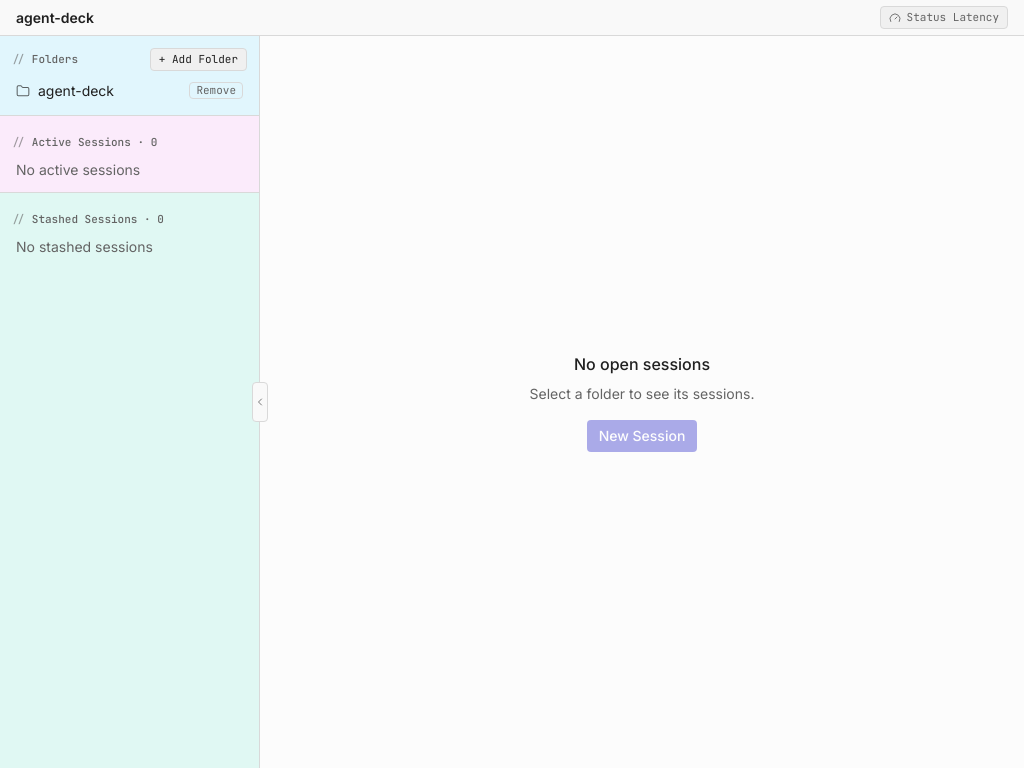
New Session (5.4) › closes the pane through the client after Close and removes it (SRS-FR-029)
Click the button "agent-deck": (99, 90) [16,80,181,100]
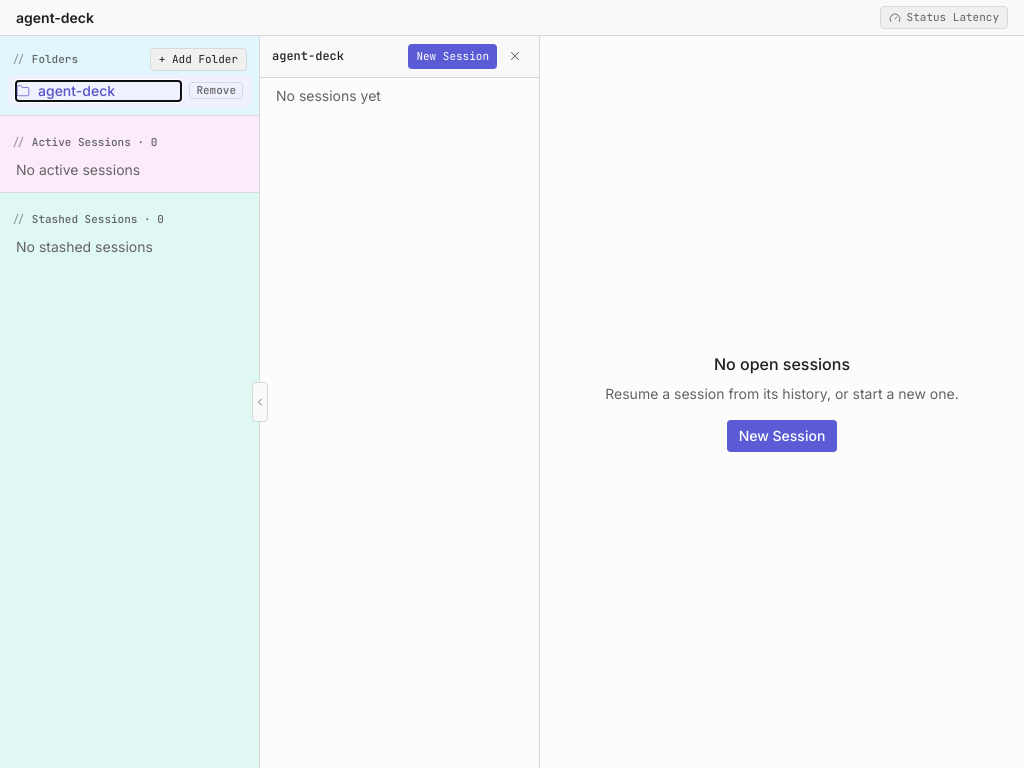
Click the 1st button "New Session": (453, 56) [408,44,497,68]
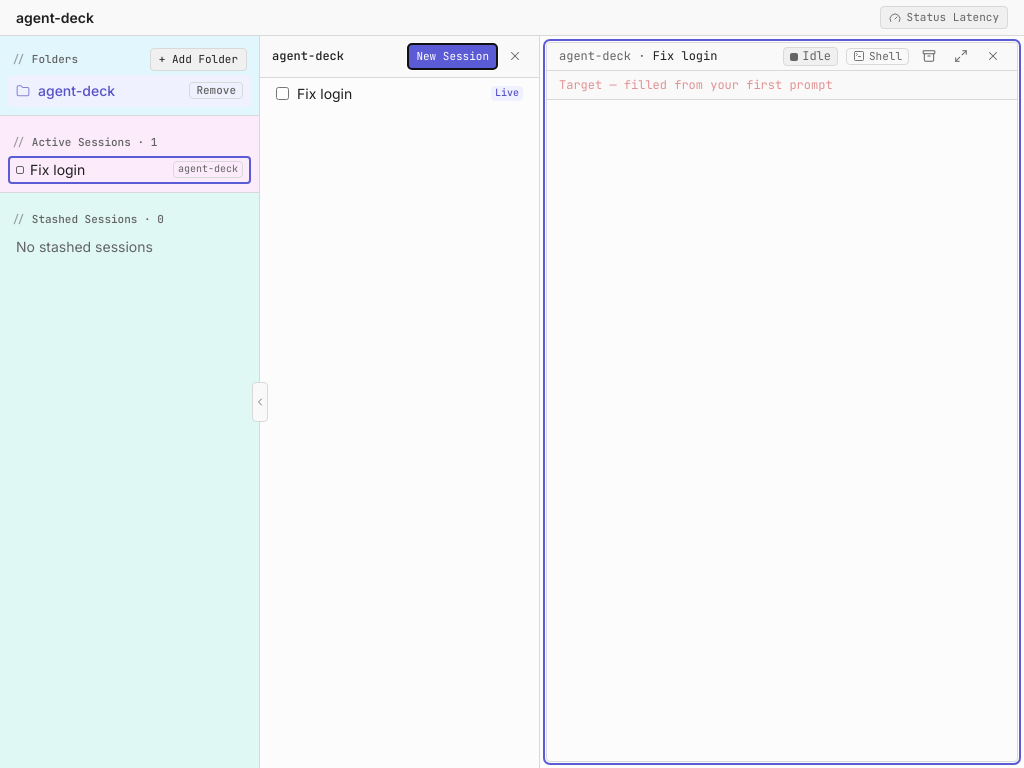
expect the element with test id "pane-grid" is shown: met, box [544,40,1020,764]
Click the button named "Close pane": (993, 56) [981,44,1005,68]
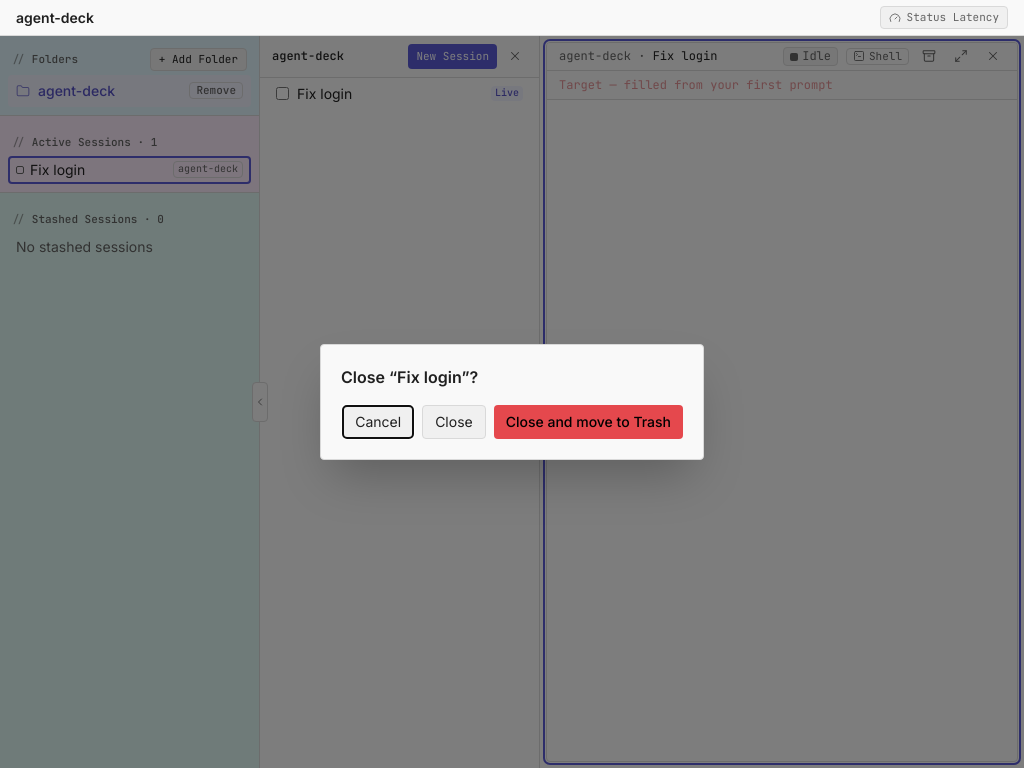
Click the button "Close": (454, 422) [422,405,486,439]
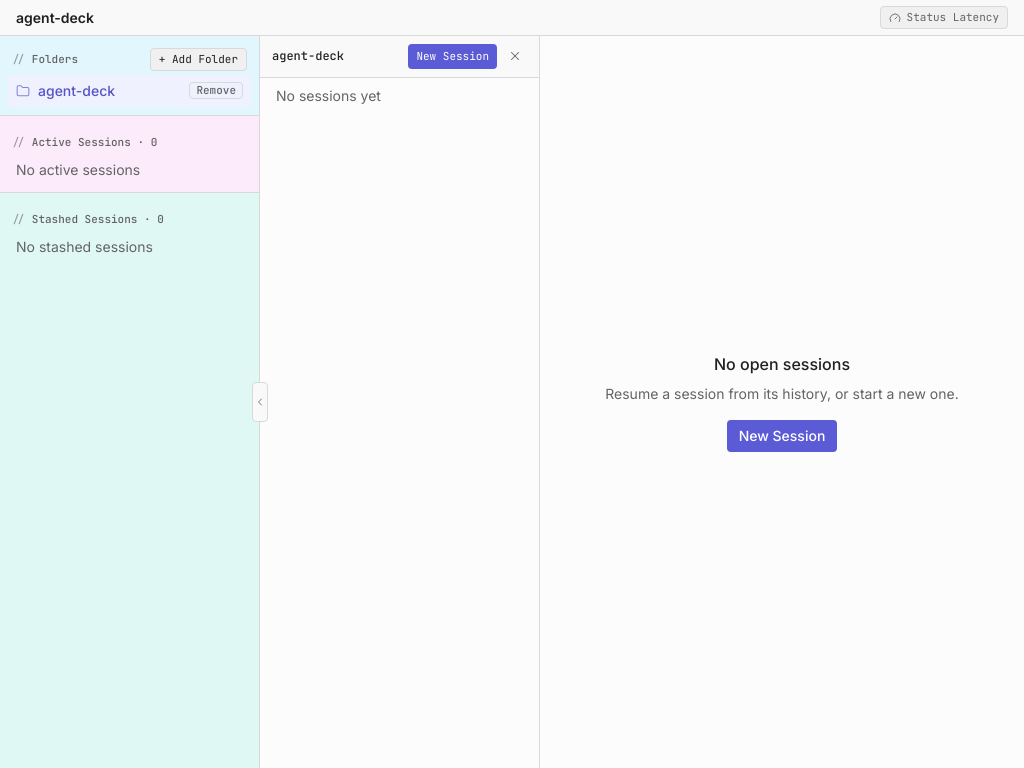
expect the element with test id "pane-grid" is gone: met
expect the text "No open sessions" is shown: met, box [714,354,850,374]
